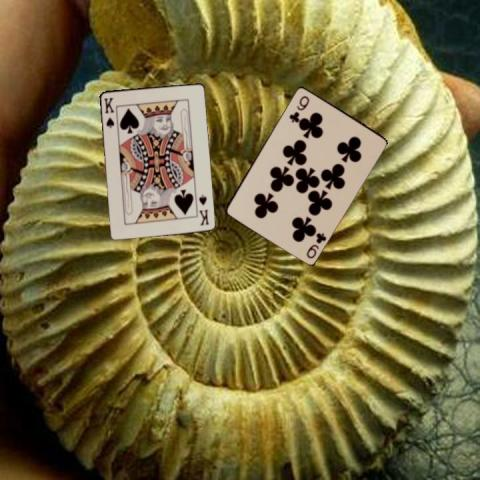9c: (286, 93, 311, 124), (304, 229, 328, 260)
Ks: (195, 191, 210, 227), (102, 95, 116, 129)
